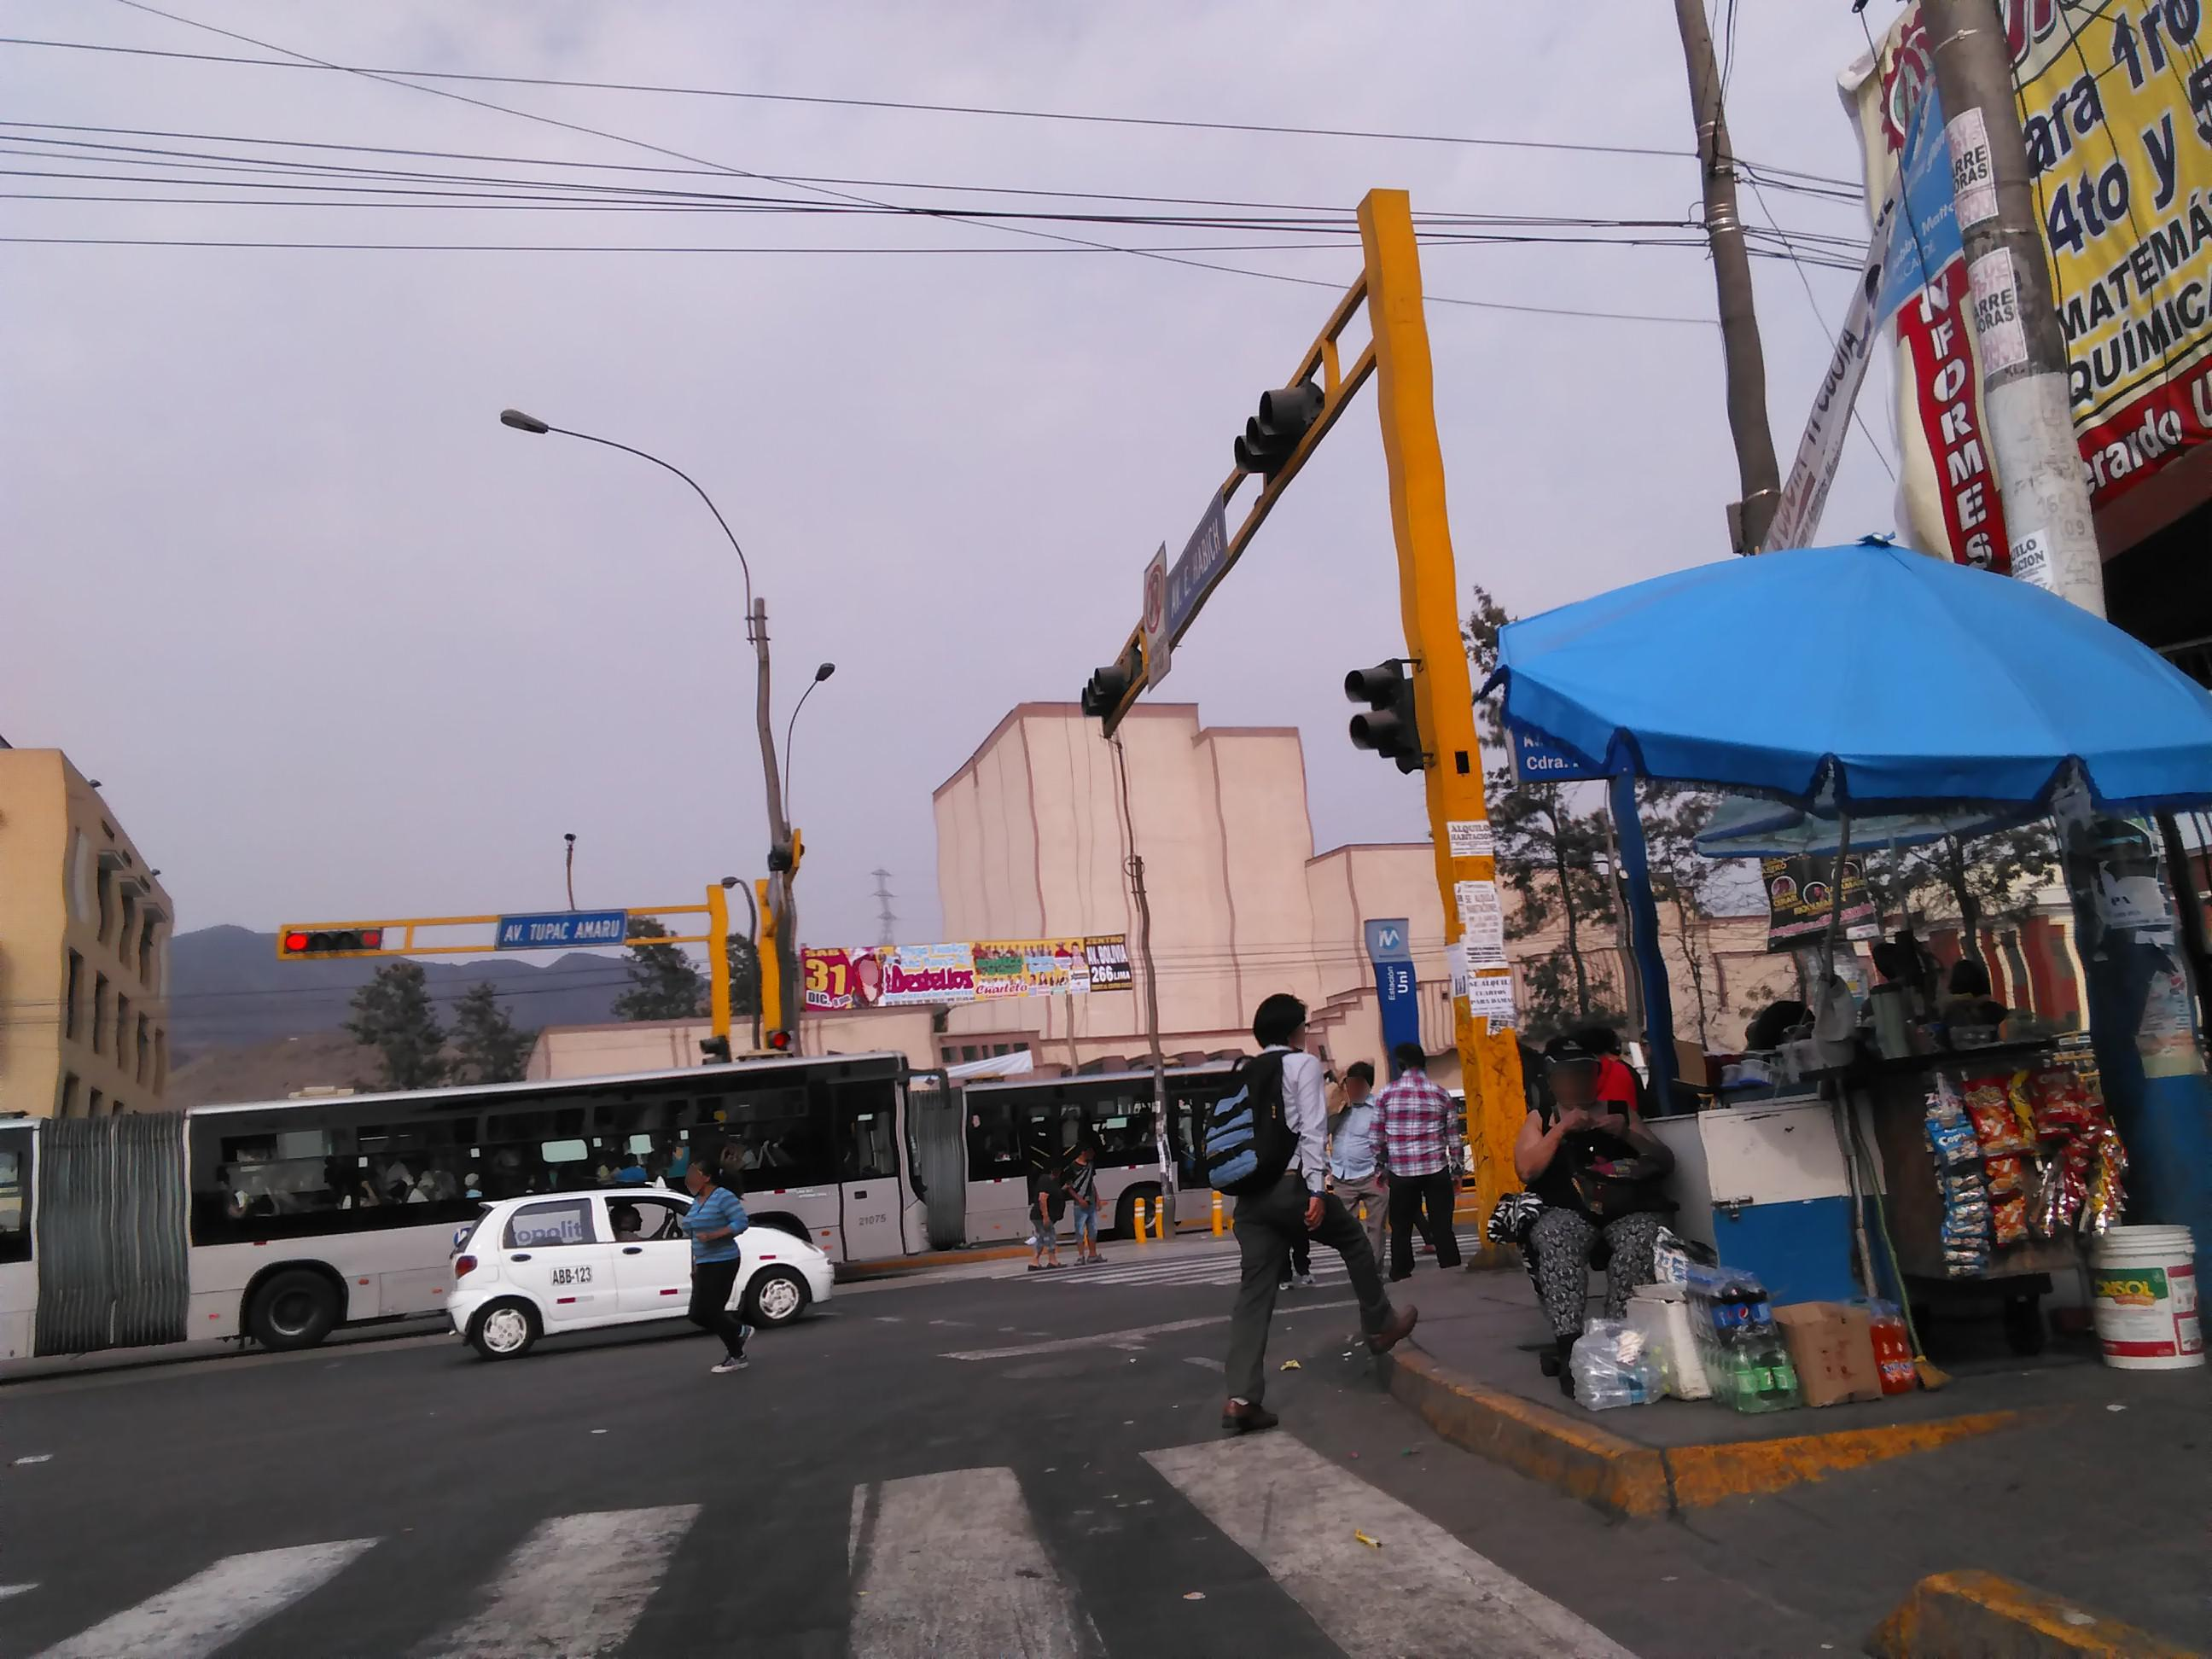vinyl banner: (1801, 2, 2212, 589), (1613, 52, 1972, 584), (780, 927, 1143, 1025)
